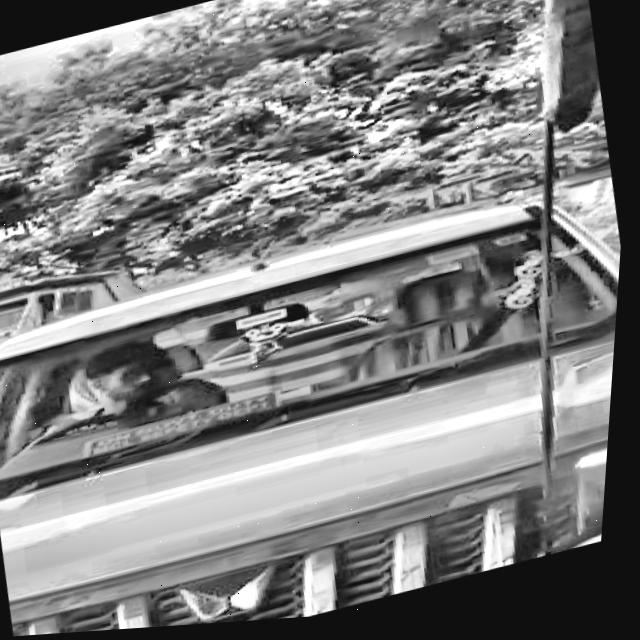light_vehicle: (0, 195, 628, 640)
